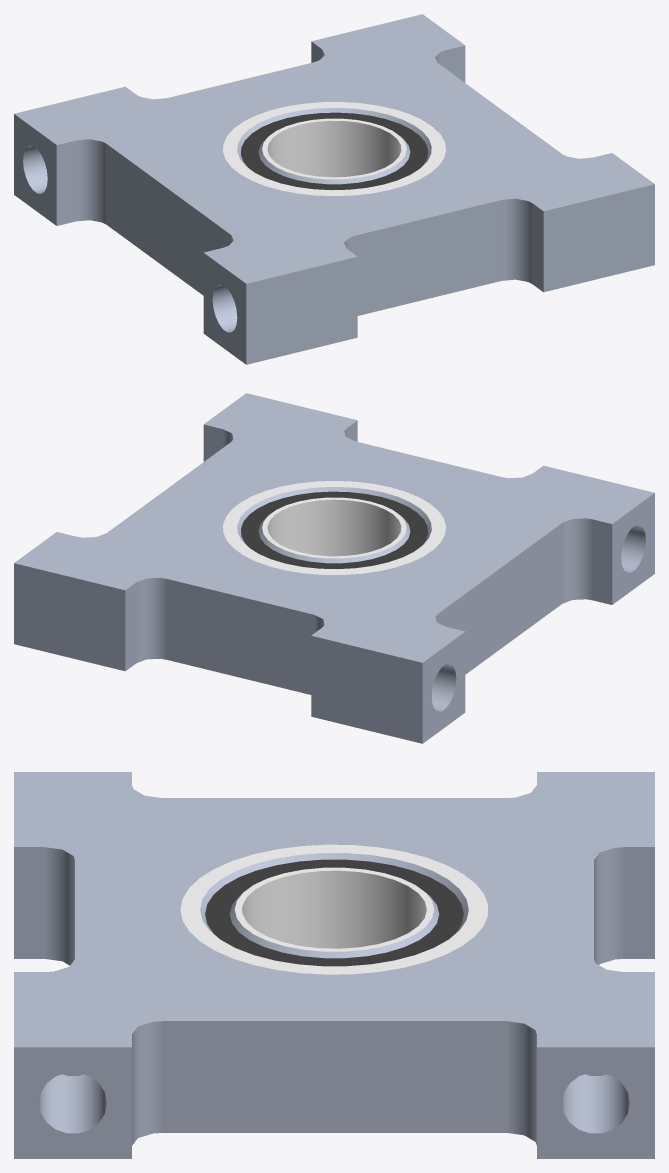
File: ROB-12146.obj
3 views of the same model, one above another, from view 1: azimuth 30°, elevation 25°; view 2: azimuth 150°, elevation 25°; view 3: azimuth 270°, elevation 25° (orthographic). The views are drawn at different scales.
Parts seen in each view (by area): view 1: mesh 1 RO, mesh 2 Boss-Extrude2, mesh 3 Boss-Extrude4; view 2: mesh 1 RO, mesh 2 Boss-Extrude2, mesh 3 Boss-Extrude4; view 3: mesh 1 RO, mesh 2 Boss-Extrude2, mesh 3 Boss-Extrude4.
Part boxes in pixels (x1,y1,x2,y2): mesh 1 RO: [14, 14, 654, 364]; mesh 2 Boss-Extrude2: [223, 102, 445, 196]; mesh 3 Boss-Extrude4: [241, 112, 427, 190]; mesh 1 RO: [14, 393, 654, 743]; mesh 2 Boss-Extrude2: [223, 481, 445, 574]; mesh 3 Boss-Extrude4: [241, 491, 427, 569]; mesh 1 RO: [14, 772, 654, 1158]; mesh 2 Boss-Extrude2: [180, 844, 487, 974]; mesh 3 Boss-Extrude4: [205, 859, 463, 966].
Bounding box in the file's own units: 0.0335 × 0.00635 × 0.033.
